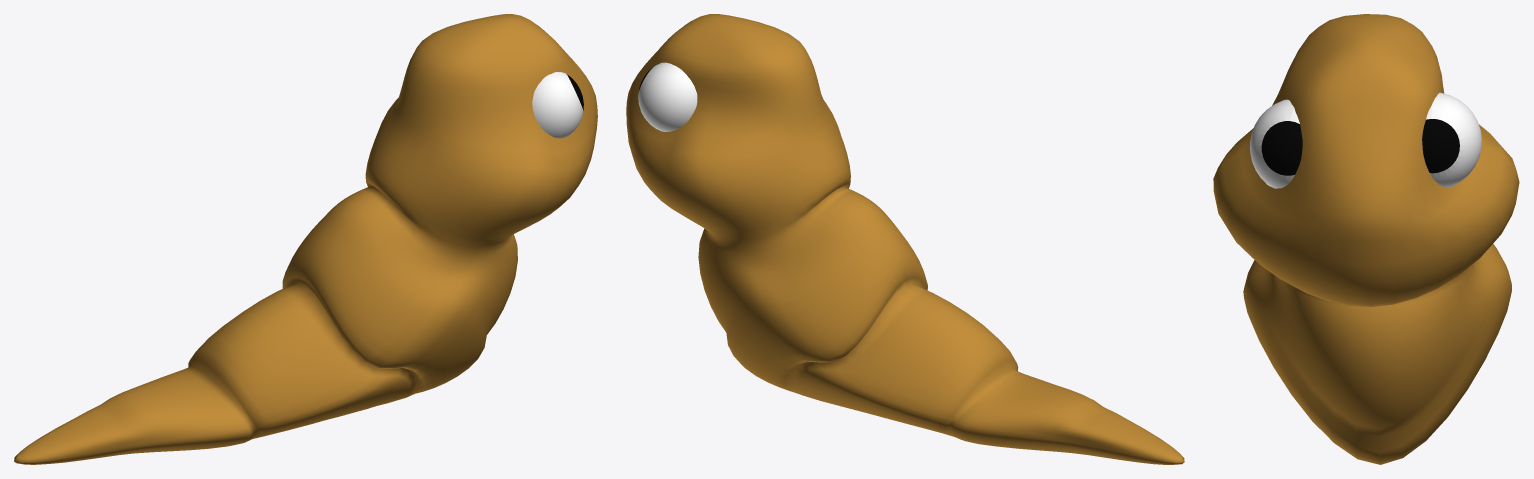
Rendered from Gusano[enemigo].FBX.
3 renders of one model, left to right at view 1: azimuth 30°, elevation 25°; view 2: azimuth 150°, elevation 25°; view 3: azimuth 270°, elevation 25°, orthographic. The views are drawn at different scales.
Visible parts, largest first — view 1: Forme02, object 2; view 2: Forme02, object 3; view 3: Forme02, object 3, object 2.
Part boxes in pixels (x1,y1,x2,y2): Forme02: (14, 14, 597, 464); object 2: (532, 72, 583, 138); Forme02: (626, 14, 1184, 464); object 3: (638, 62, 697, 131); Forme02: (1213, 14, 1519, 464); object 3: (1422, 92, 1481, 187); object 2: (1250, 99, 1302, 188).
Bounding box in the file's own units: 4.51 × 2.67 × 1.59.
